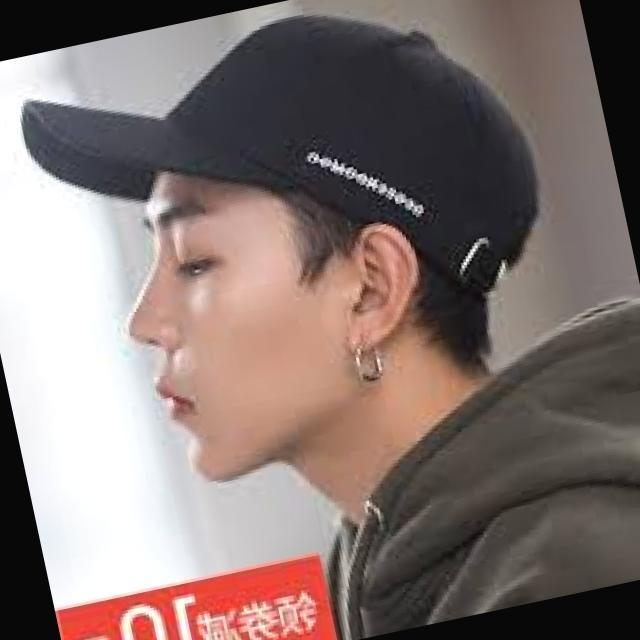cap: (0, 0, 584, 395)
